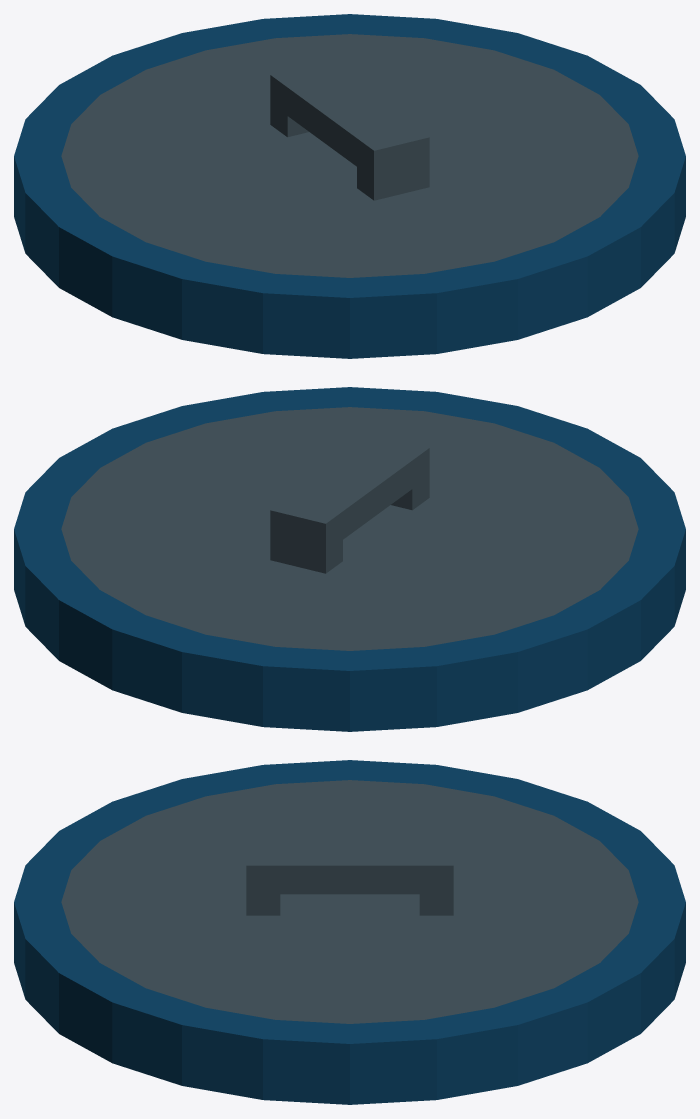
The model's file is TrashCanLid.fbx.
3 views of the same model, one above another, from view 1: azimuth 30°, elevation 25°; view 2: azimuth 150°, elevation 25°; view 3: azimuth 270°, elevation 25° (orthographic).
Visible parts, largest first — view 1: TrashCanLid; view 2: TrashCanLid; view 3: TrashCanLid.
Part boxes in pixels (x1,y1,x2,y2): TrashCanLid: (14,14,685,358); TrashCanLid: (14,387,685,731); TrashCanLid: (14,760,685,1104).
Bounding box in the file's own units: 206 × 206 × 37.46.
